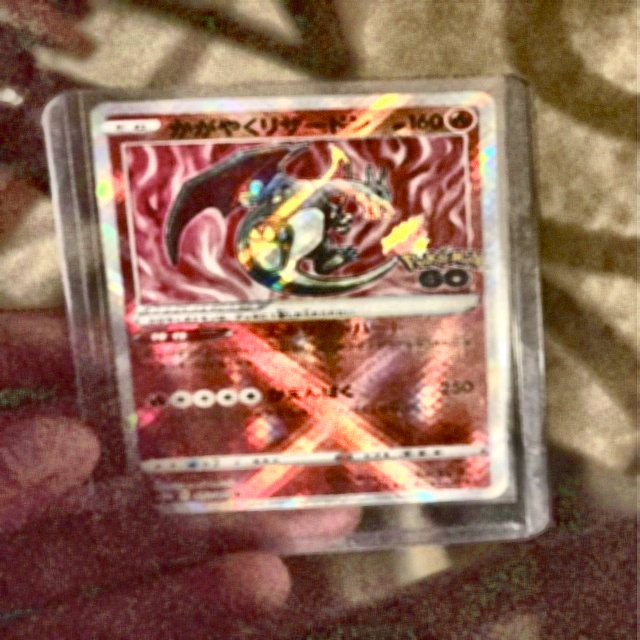card: (90, 91, 508, 518)
